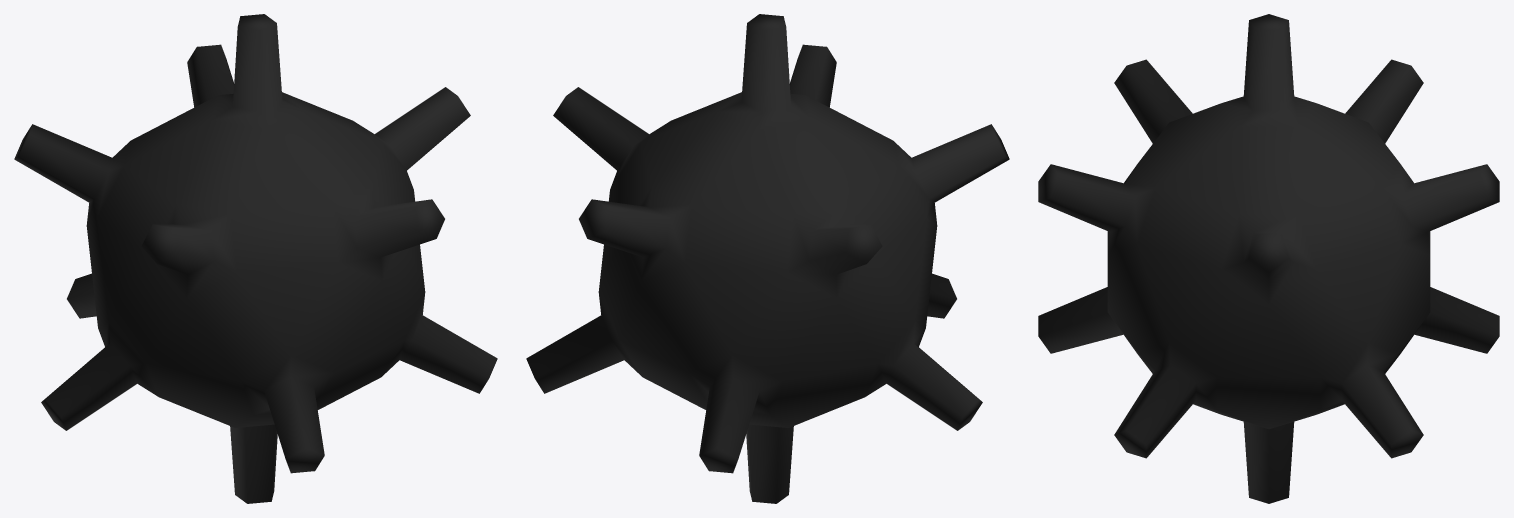
Rendered from nvmine.fbx.
3 renders of one model, left to right at view 1: azimuth 30°, elevation 25°; view 2: azimuth 150°, elevation 25°; view 3: azimuth 270°, elevation 25°, orthographic.
Visible parts, largest first — view 1: Base; view 2: Base; view 3: Base.
Boxes of the visible parts, left/top/right/bottom form: Base: left=14, top=14, right=497, bottom=503; Base: left=526, top=14, right=1009, bottom=503; Base: left=1038, top=14, right=1499, bottom=503.
Bounding box in the file's own units: 71.63 × 76.98 × 68.12.
